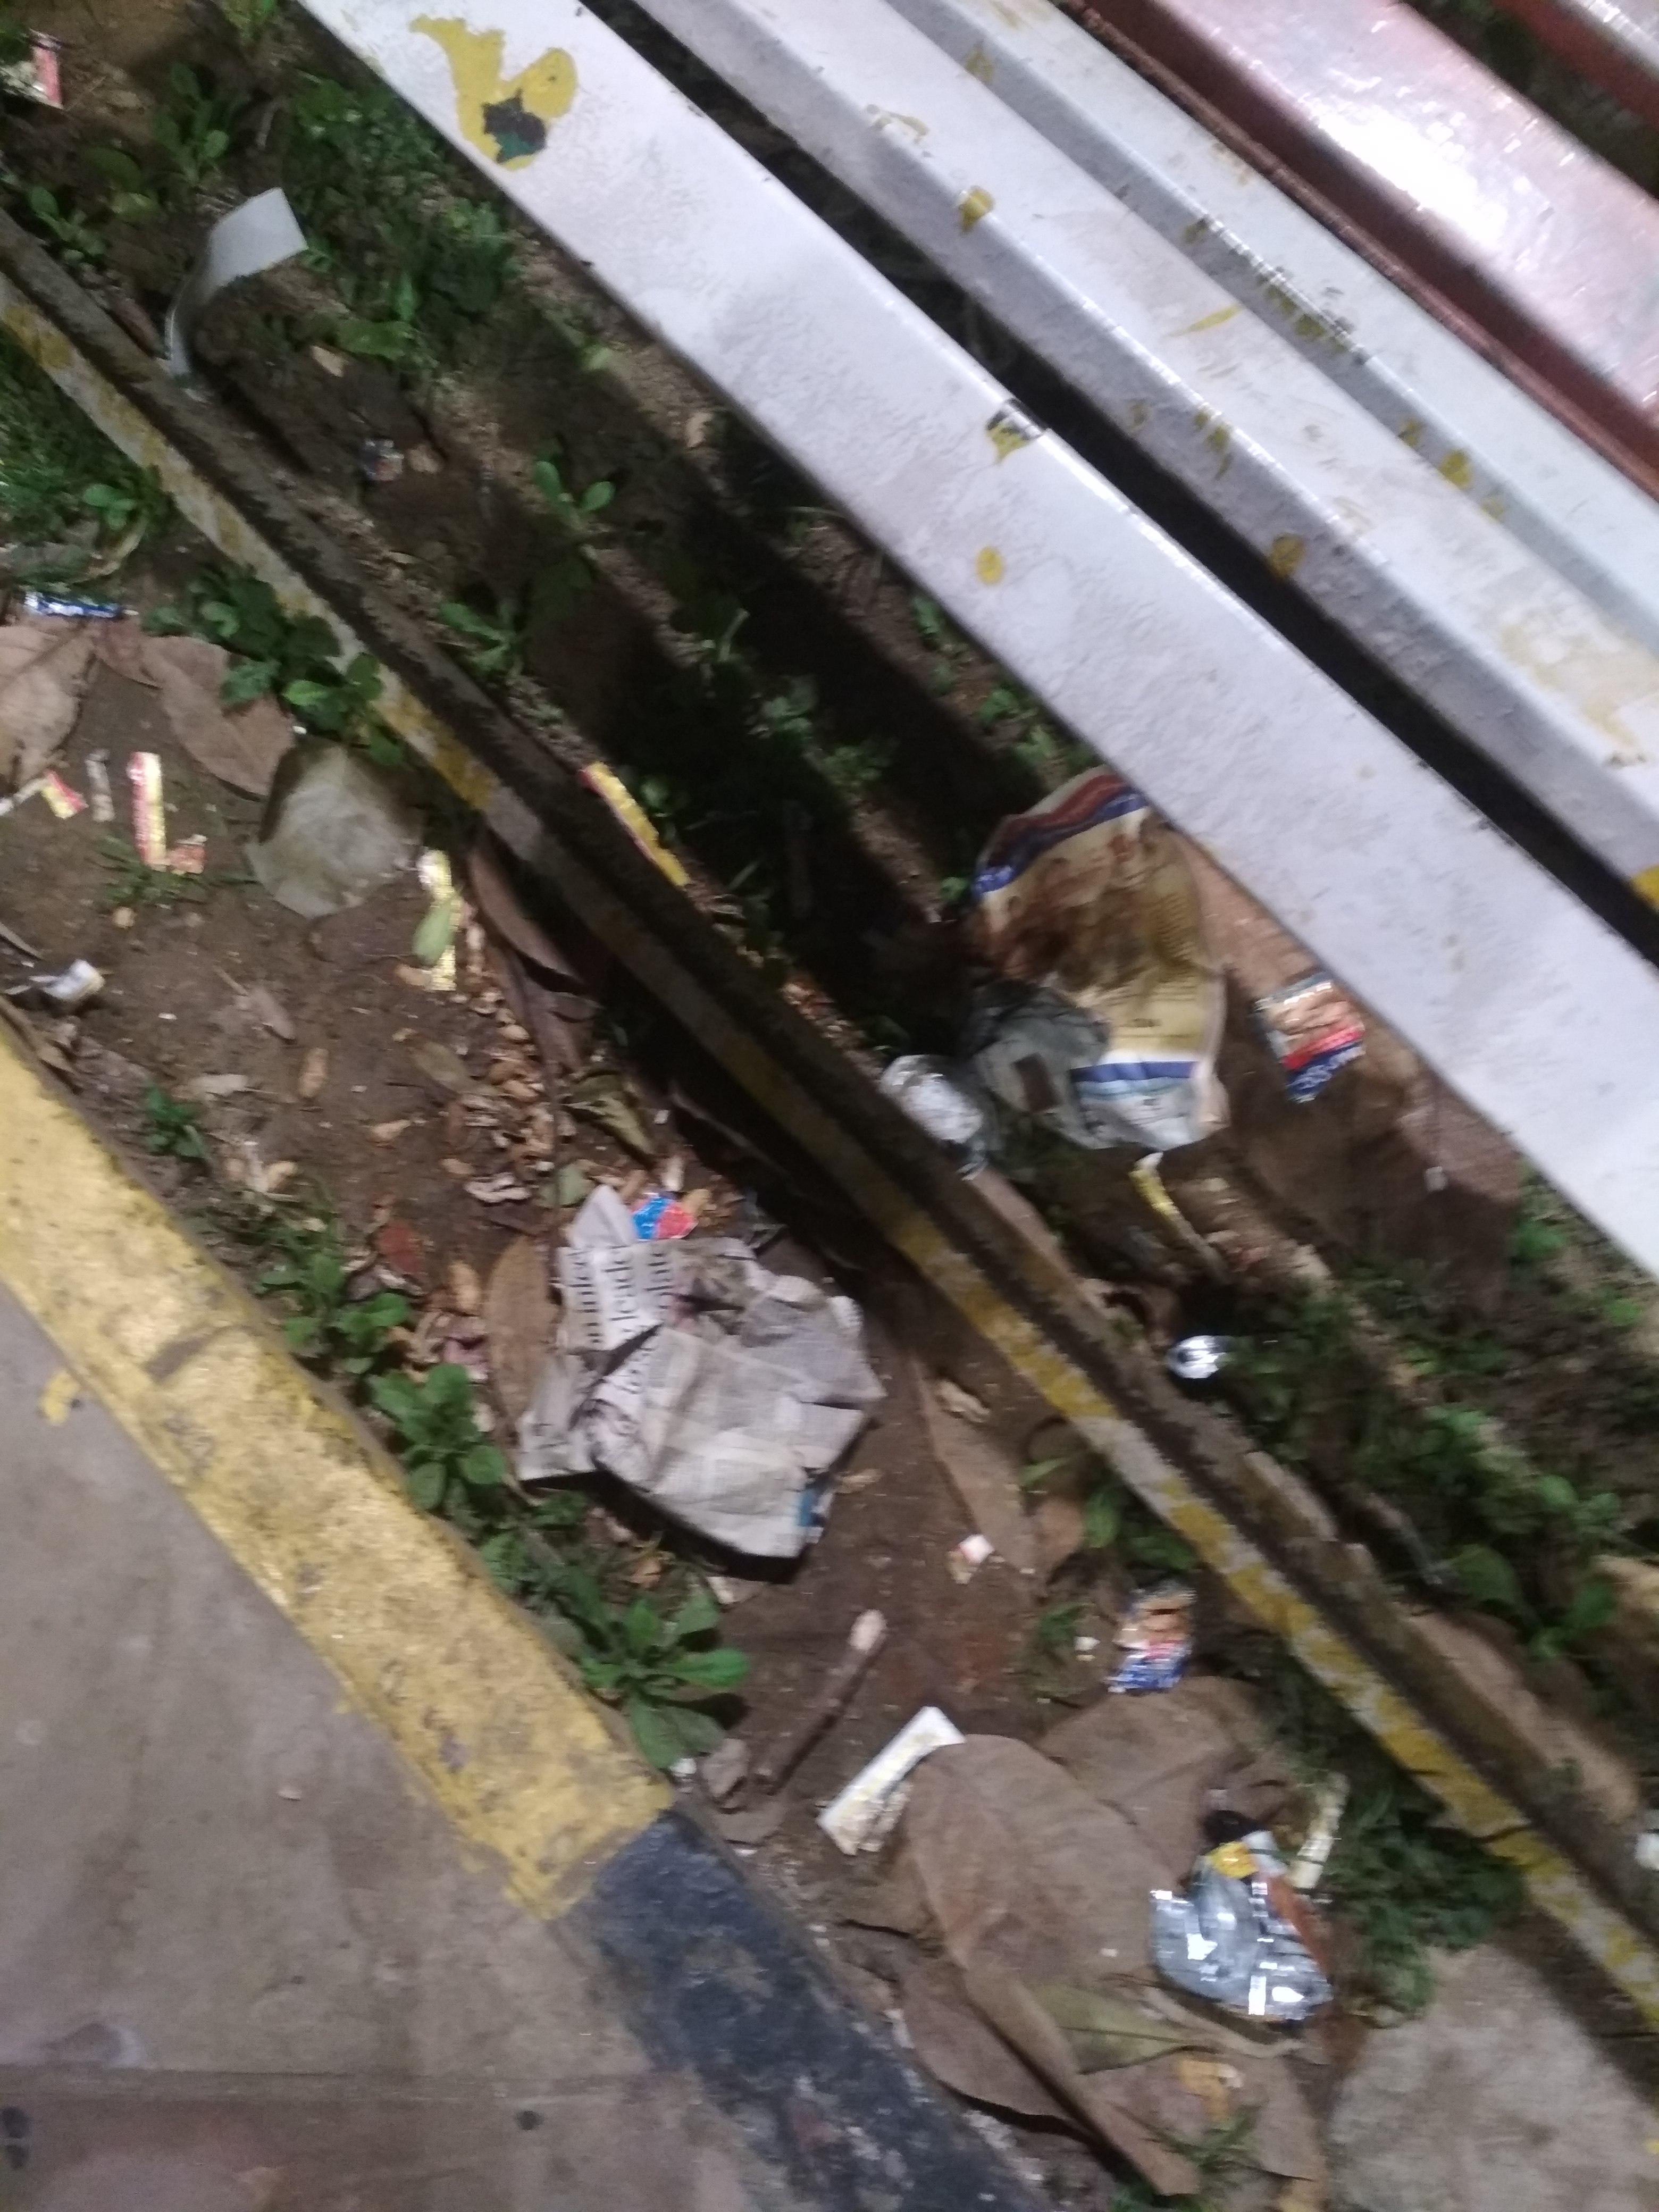organic: (462, 752, 1398, 2212)
